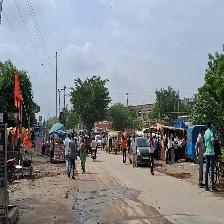Car: (127, 131, 148, 168)
Human: (191, 123, 219, 193), (59, 130, 79, 180), (75, 136, 89, 176), (146, 133, 159, 176), (116, 133, 129, 166)
Road: (97, 153, 221, 223)
